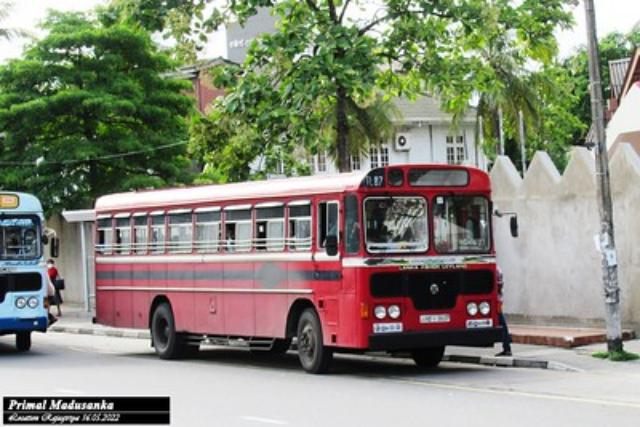bus: (91, 165, 502, 374), (2, 190, 48, 352)
